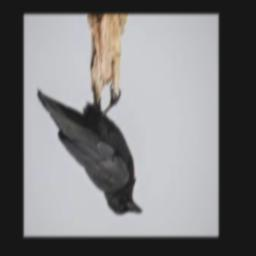Crow: (38, 88, 145, 216)
